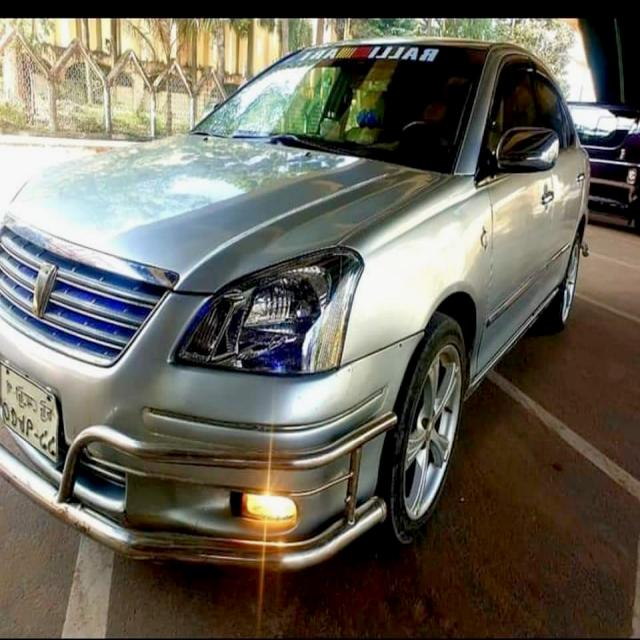silver: (0, 34, 589, 590)
